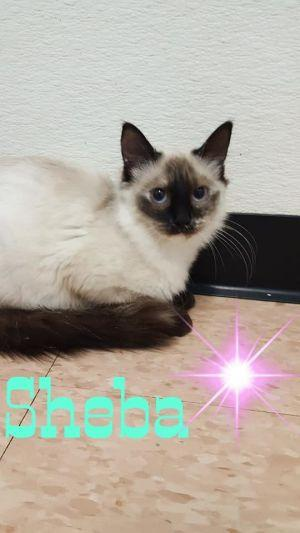siamese: (102, 103, 244, 257)
